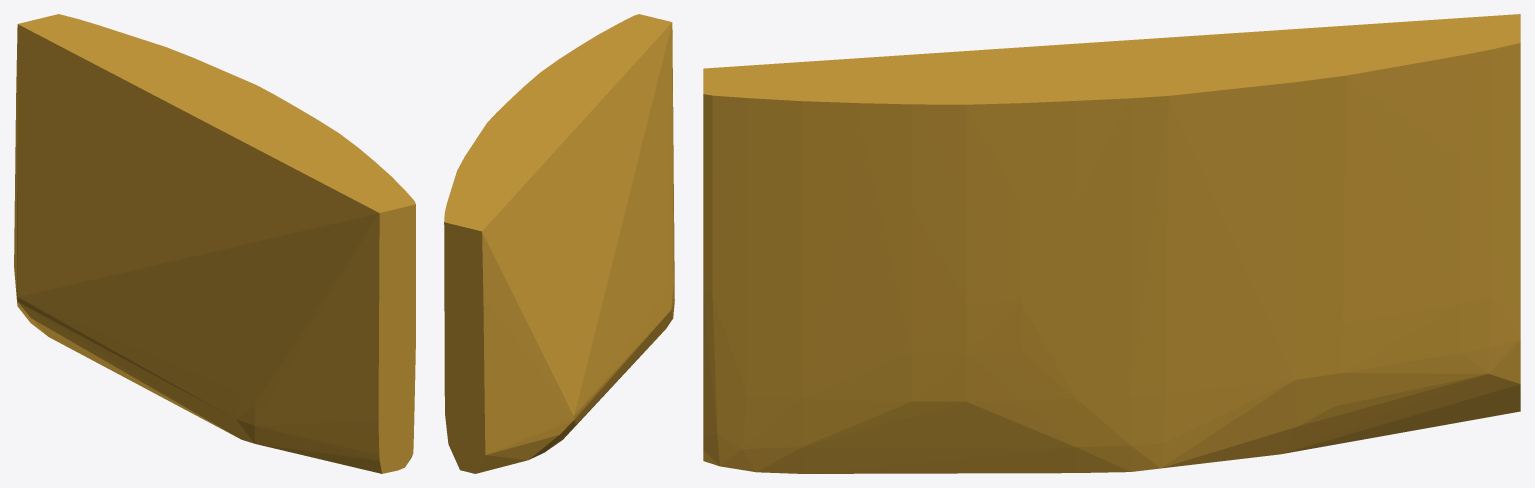
Rendered from right-shoulder-pitch-0_part_76.obj.
The picture shows the model from 3 angles, left to right: view 1: azimuth 30°, elevation 25°; view 2: azimuth 150°, elevation 25°; view 3: azimuth 270°, elevation 25°; orthographic projection. The views are drawn at different scales.
Size of the model in its own units: 0.0093 by 0.0131 by 0.0255.
